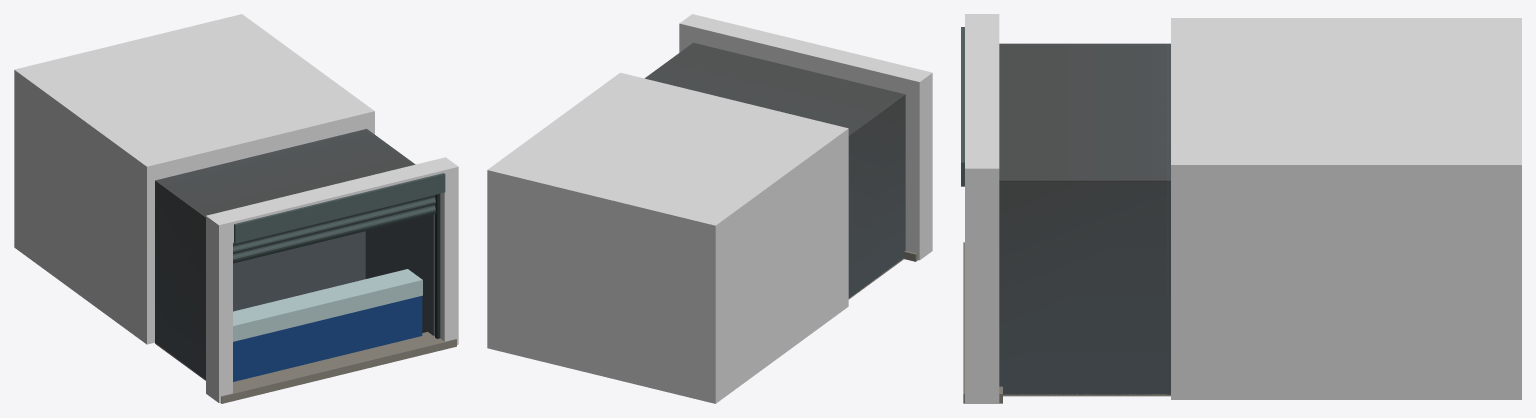
File: tret_sua_dt_48.glb
3 renders of one model, left to right at view 1: azimuth 30°, elevation 25°; view 2: azimuth 150°, elevation 25°; view 3: azimuth 270°, elevation 25°, orthographic. The views are drawn at different scales.
Visible parts, largest first — view 1: tret_sua_dt_48; view 2: tret_sua_dt_48; view 3: tret_sua_dt_48.
Part boxes in pixels (x1,y1,x2,y2): tret_sua_dt_48: [14, 14, 458, 403]; tret_sua_dt_48: [487, 14, 932, 403]; tret_sua_dt_48: [961, 14, 1521, 403].
Bounding box in the file's own units: 4.8 × 3.42 × 7.35.
